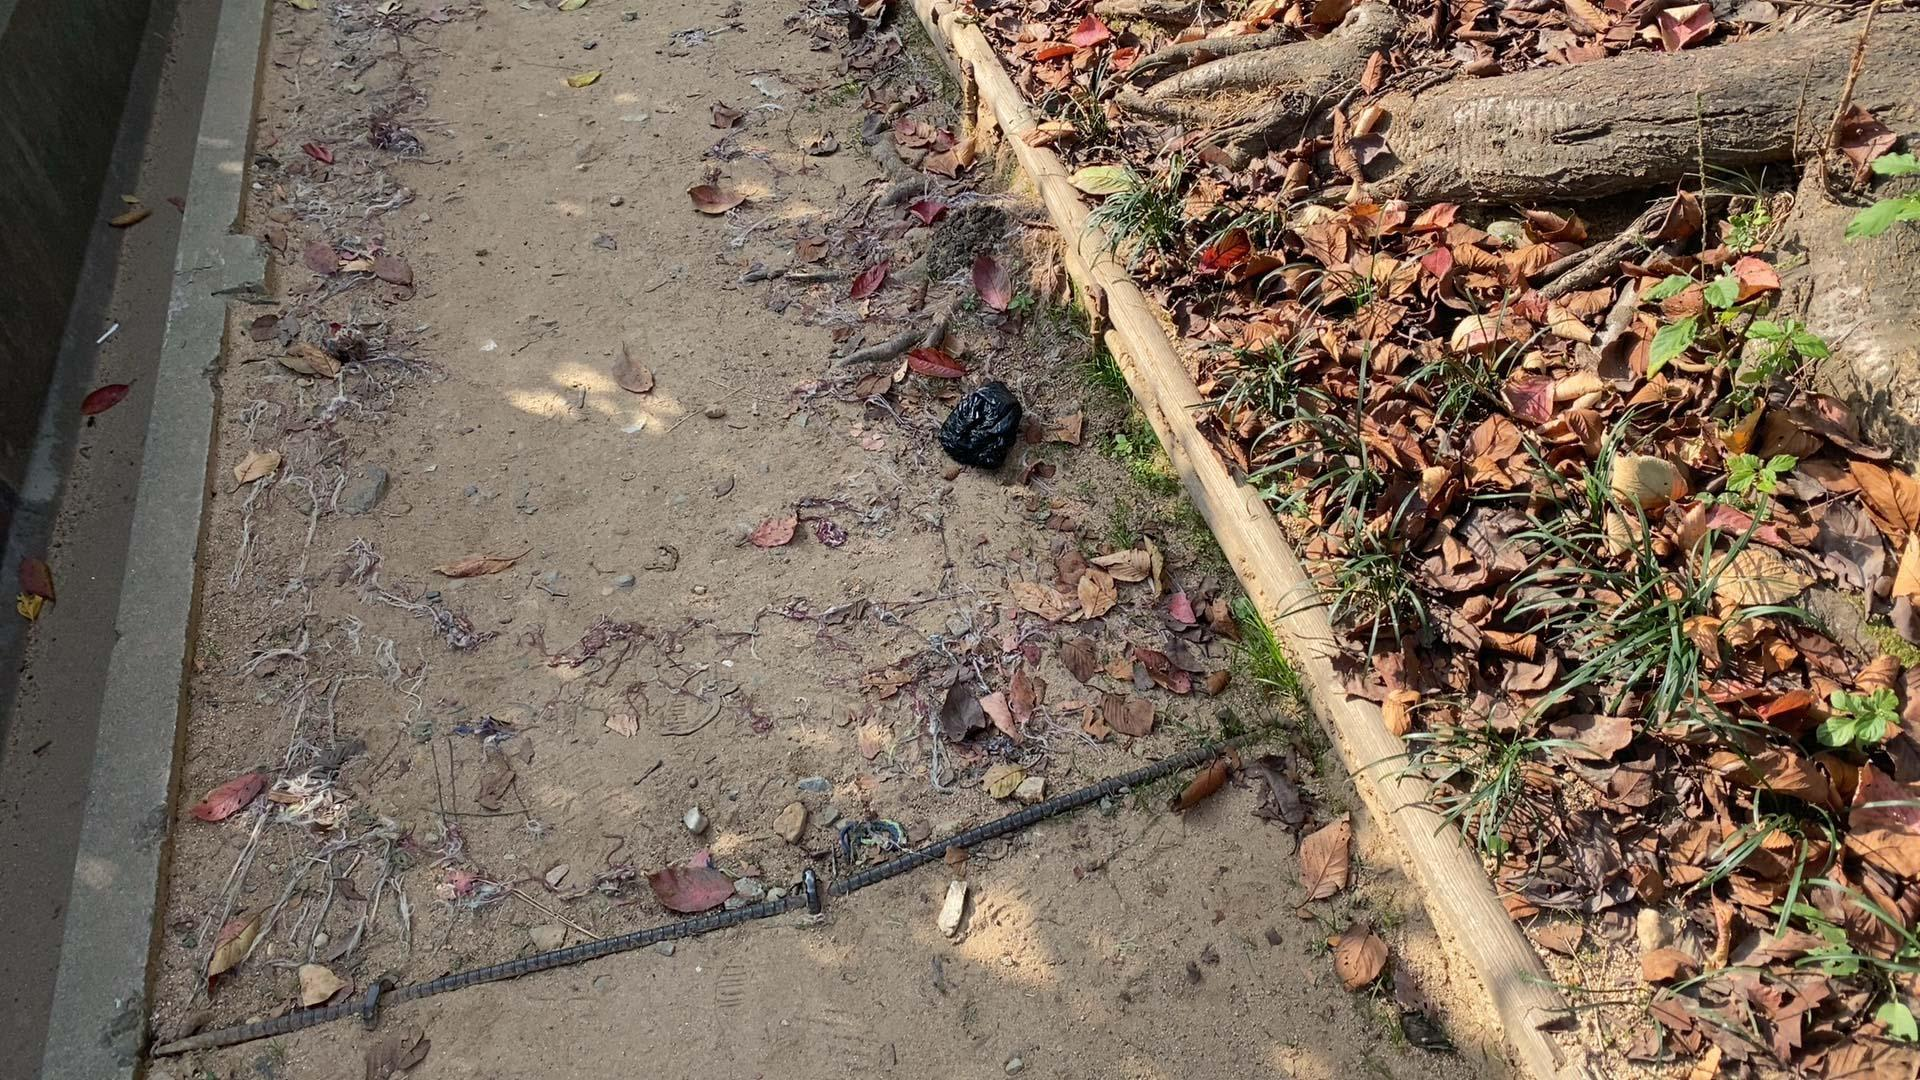black_bag: (934, 376, 1026, 472)
